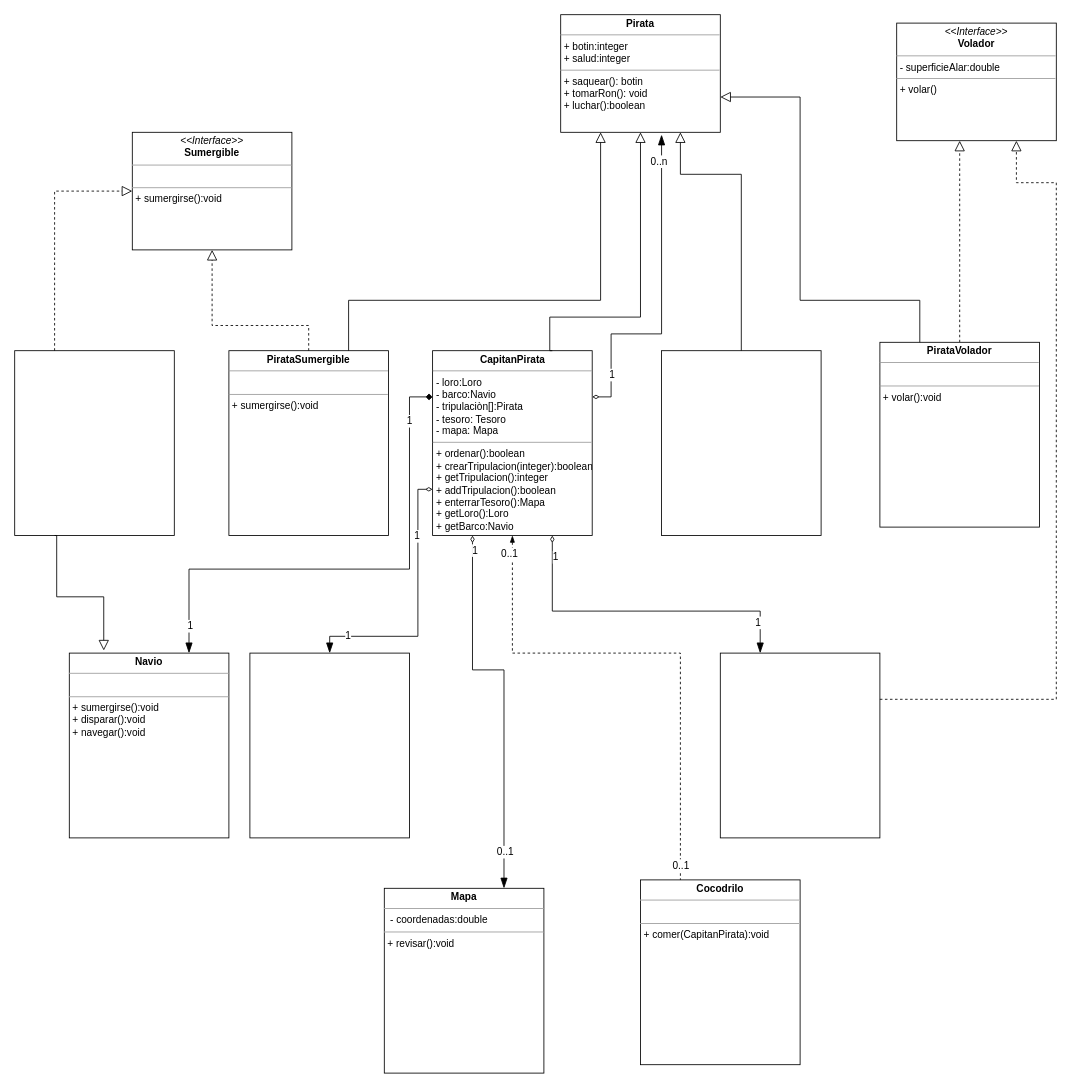
The diagram is 1081 pixels wide and 1088 high, and some of its shapes have lost their labels. Here are the shapes that lost their labels. From the top down, the centre of each, then its label:
point (94, 443): NavioSumergible + sumergirse():void
point (741, 443): PirataInterprete + interpretar(mapa):string
point (329, 745): Tesoro - saldo:double + repartir(integer):double
point (799, 745): Loro + volar():void + responder(string):string
